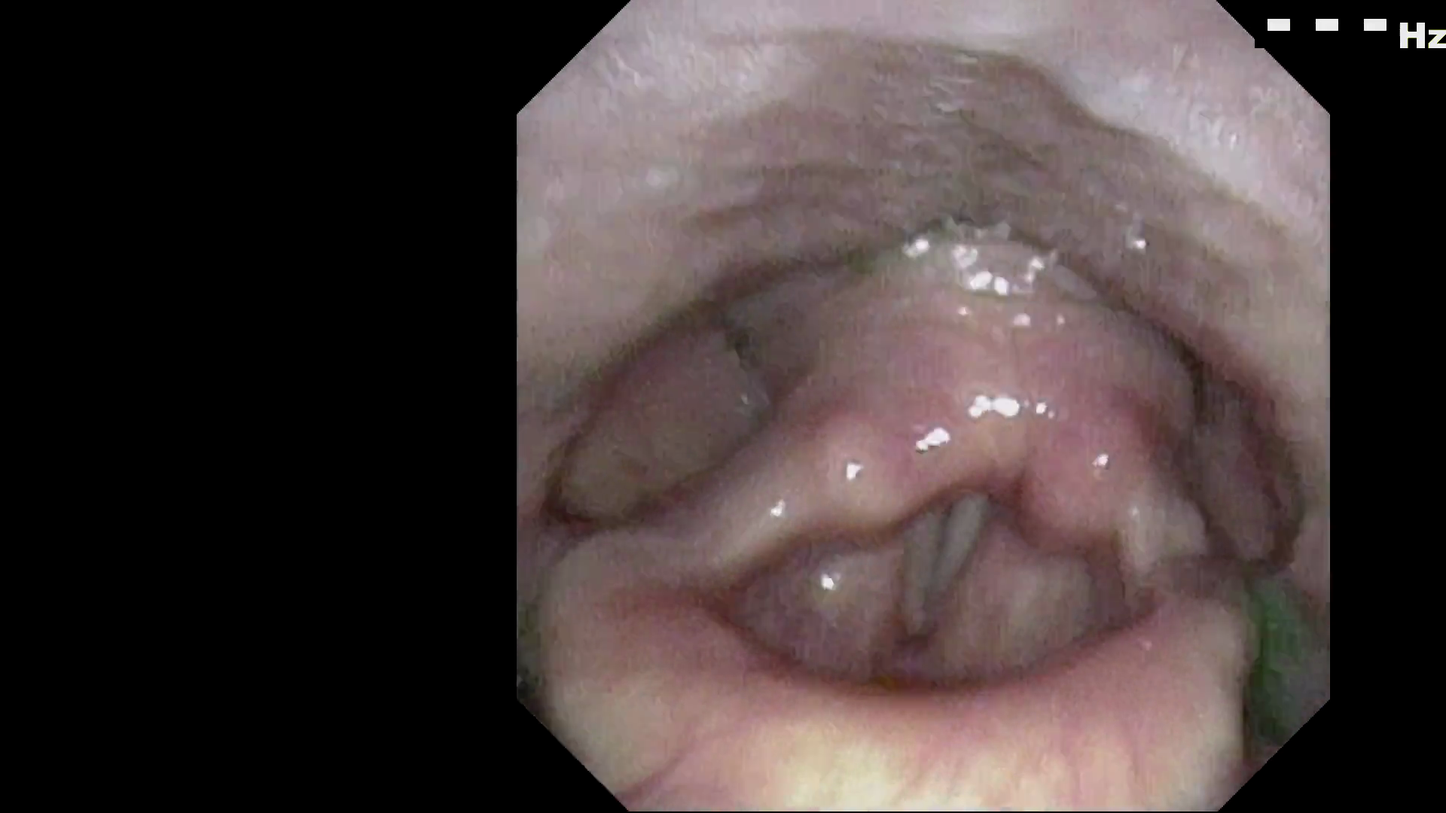epiglottis: (603, 579, 1244, 808)
trachea: (863, 455, 1037, 670)
